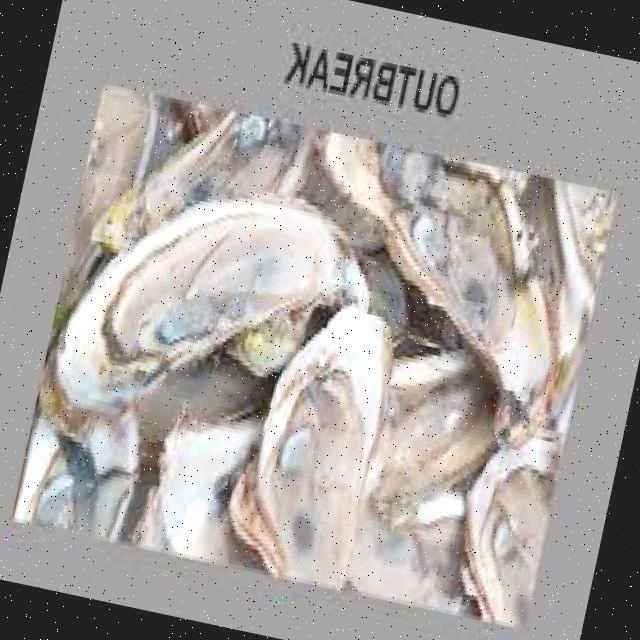Oyster-Closed: (94, 349, 302, 449), (306, 124, 406, 246), (371, 344, 517, 421)
Oyster-Open: (56, 200, 368, 412), (380, 142, 570, 405), (231, 308, 392, 588), (92, 96, 312, 253), (14, 378, 136, 541), (138, 412, 264, 567), (464, 438, 559, 624), (138, 349, 279, 474), (71, 84, 149, 254), (555, 180, 618, 291)
